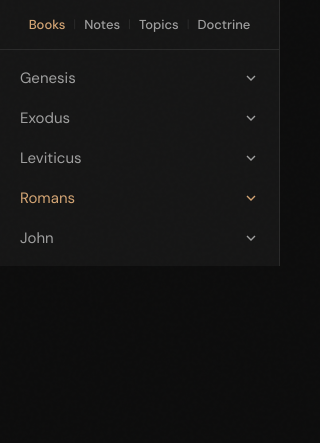
Test: Sidebar › Books tab › shows correct number of chapters for each book
This screenshot has width=320, height=443.
# Expand Romans (16 chapters)
Click the button "Romans" at (48, 198), box [8,178,271,218]
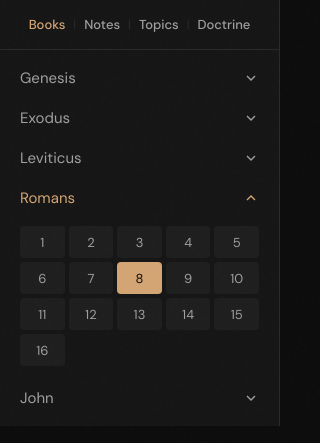
Expected: the button "16" is shown, [20,334,65,366]
